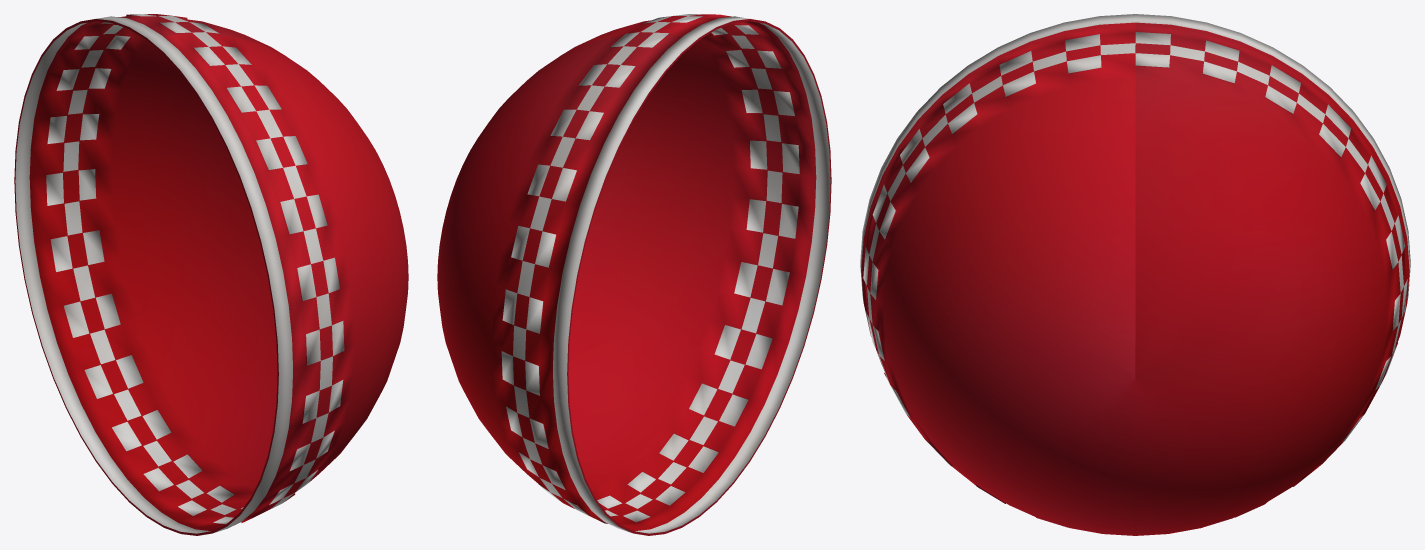
The model's file is cricket_ball_red.glb.
The picture shows the model from 3 angles, left to right: view 1: azimuth 30°, elevation 25°; view 2: azimuth 150°, elevation 25°; view 3: azimuth 270°, elevation 25°; orthographic projection. The views are drawn at different scales.
Parts seen in each view (by area): view 1: ball_new-col; view 2: ball_new-col; view 3: ball_new-col.
Boxes of the visible parts, box(x1,y1,x2,y2) form: ball_new-col: box(14, 14, 408, 535); ball_new-col: box(437, 14, 831, 535); ball_new-col: box(860, 14, 1410, 535).
Size of the model in its own units: 0.036 by 0.0727 by 0.0727.
3 materials, 3 textured.
